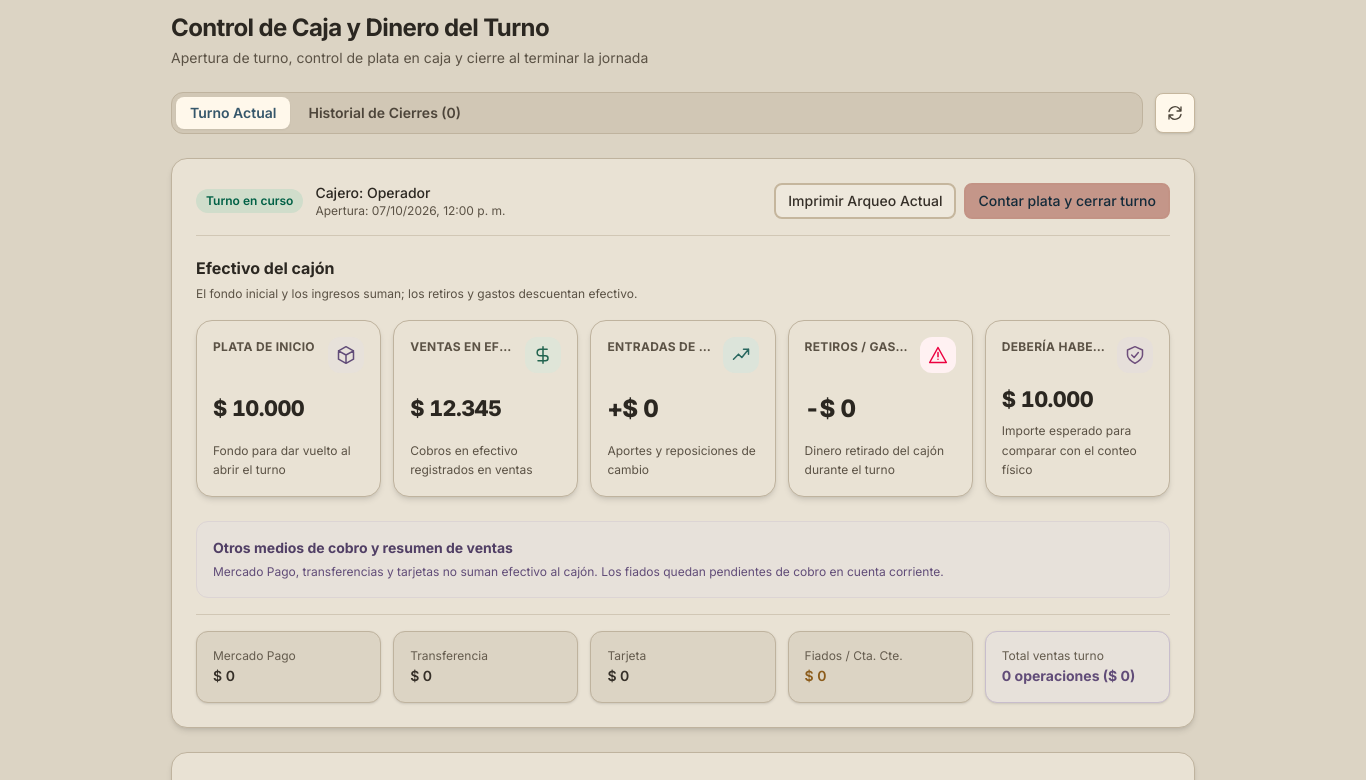
it: presenta el historial con indicadores y conserva un único refresco global
Click the button "Historial de Cierres (0)" at [385, 113], box [294, 97, 475, 129]
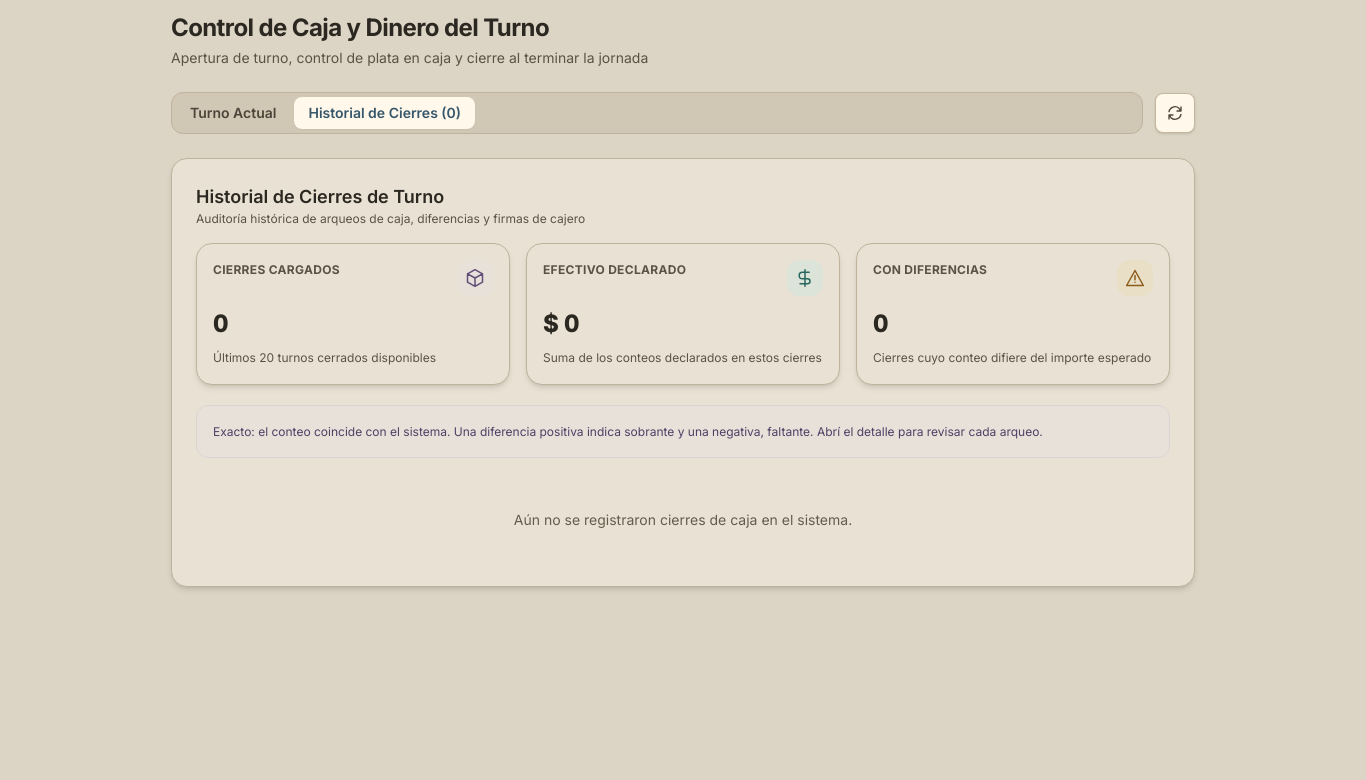
Expected: the text "Cierres cargados" is shown, [213, 260, 340, 280]
Expected: the text "Una diferencia positiva indica sobrante" is shown, [213, 424, 1043, 438]
